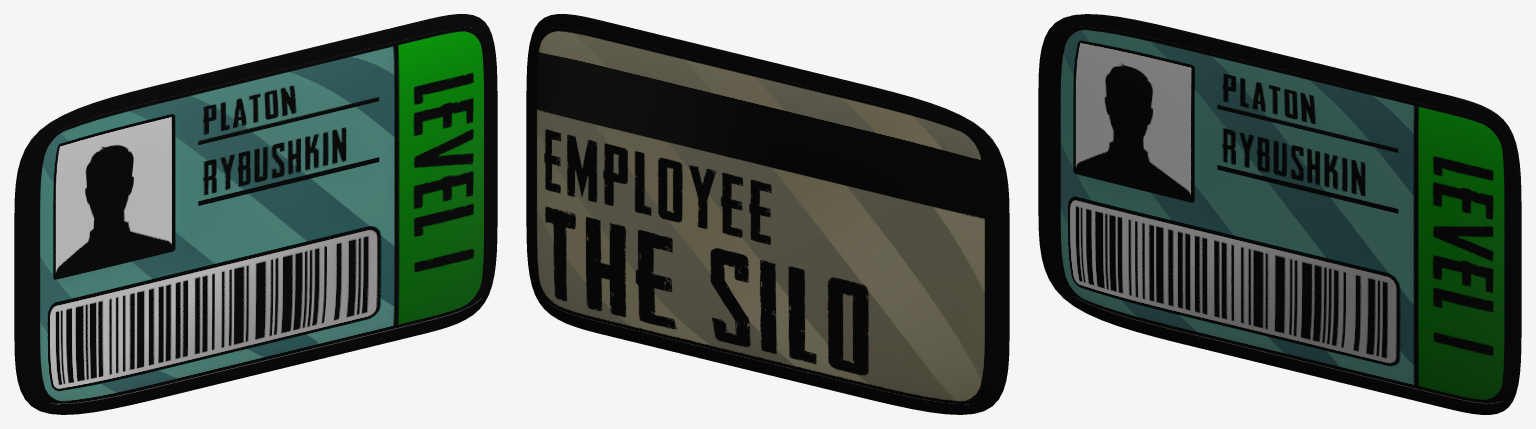
File: card1.fbx
The picture shows the model from 3 angles, left to right: view 1: azimuth 30°, elevation 25°; view 2: azimuth 150°, elevation 25°; view 3: azimuth 330°, elevation 25°; orthographic projection.
Visible parts, largest first — view 1: Card_1; view 2: Card_1; view 3: Card_1.
Part boxes in pixels (<box>): Card_1: <box>14,14,497,414</box>; Card_1: <box>526,14,1009,414</box>; Card_1: <box>1038,14,1521,414</box>.
Bounding box in the file's own units: 251 × 156 × 4.35.
